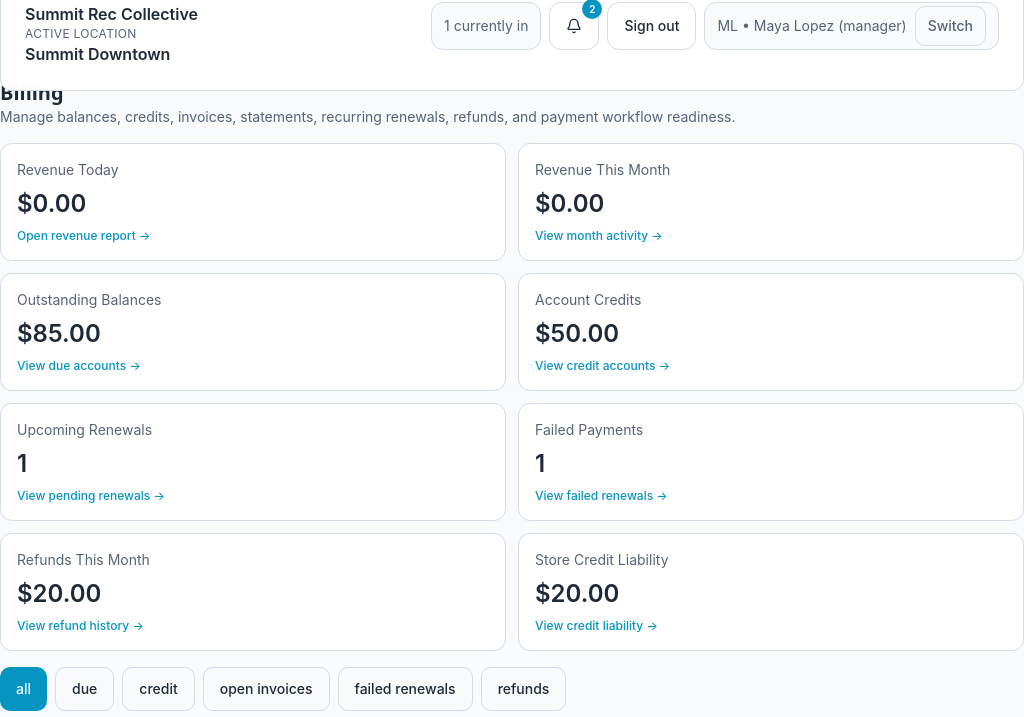
Scenario: billing workspace › supports credit, statement, and renewal actions
Click the button "Switch". click: (950, 26)
box: [915,6,986,46]
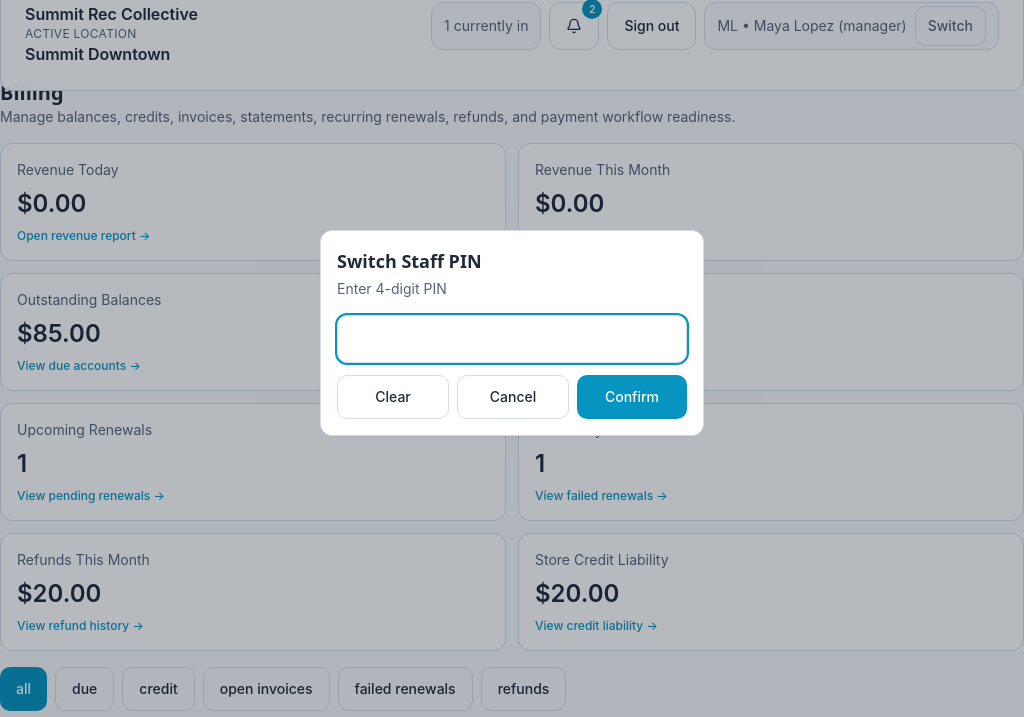
Type "2222" into the password field named "Staff PIN input". click: (512, 339)
box: [337,315,687,363]
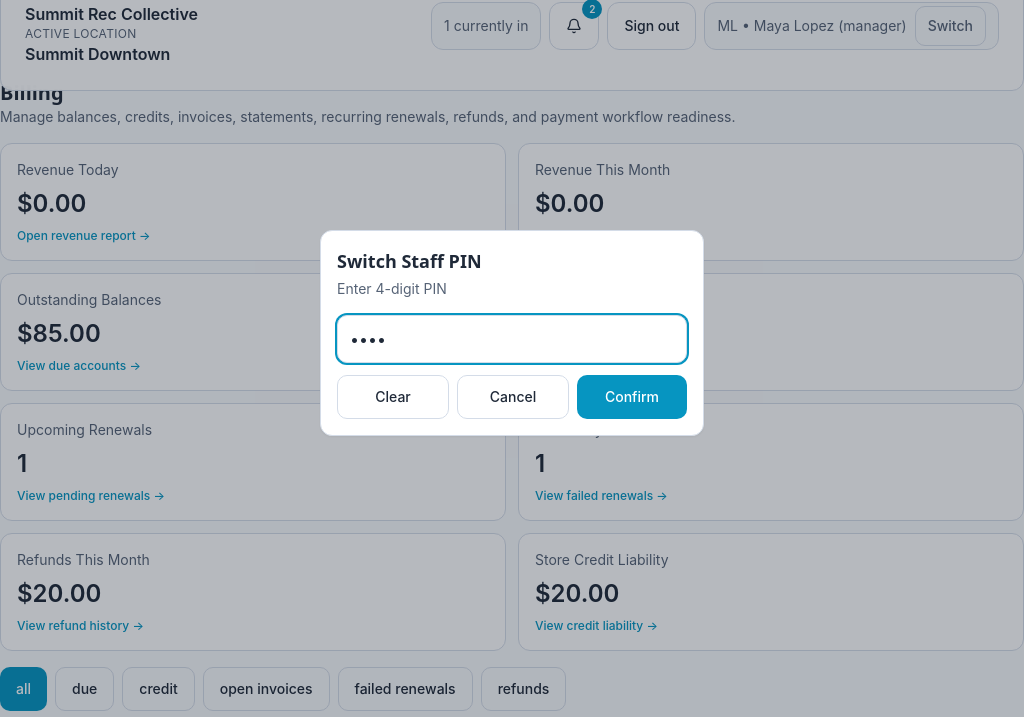
Click the button "Confirm". click: (632, 397)
box: [577,375,687,419]
(page scrolled)
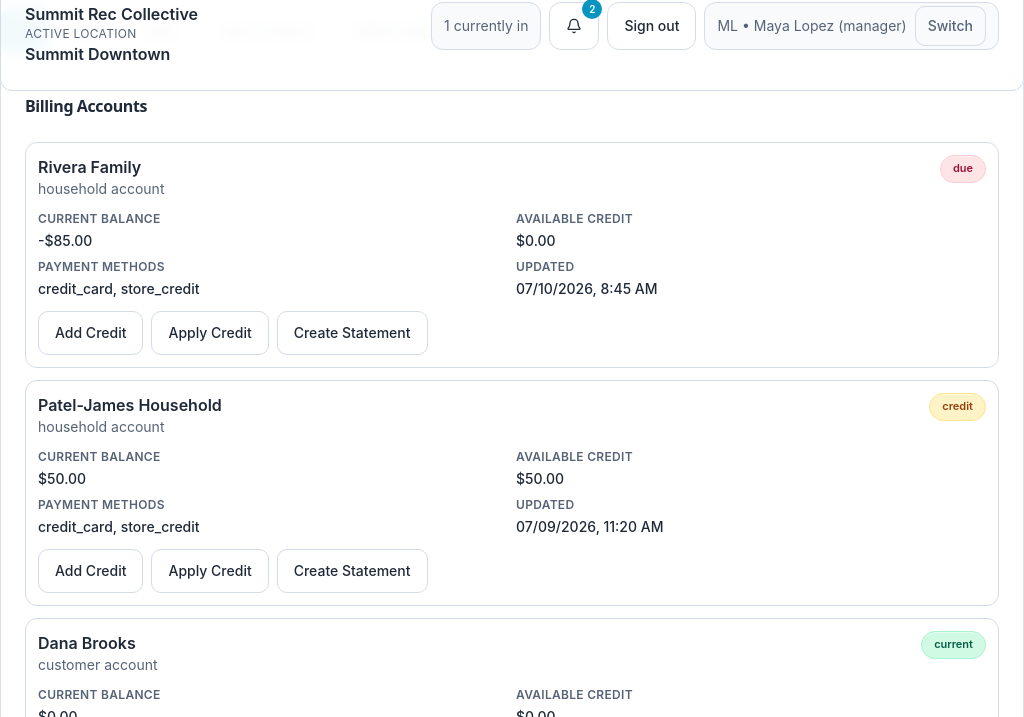
Click the button "Add Credit" below "-$85.00". click: (91, 333)
box: [38,311,144,355]
(page scrolled)
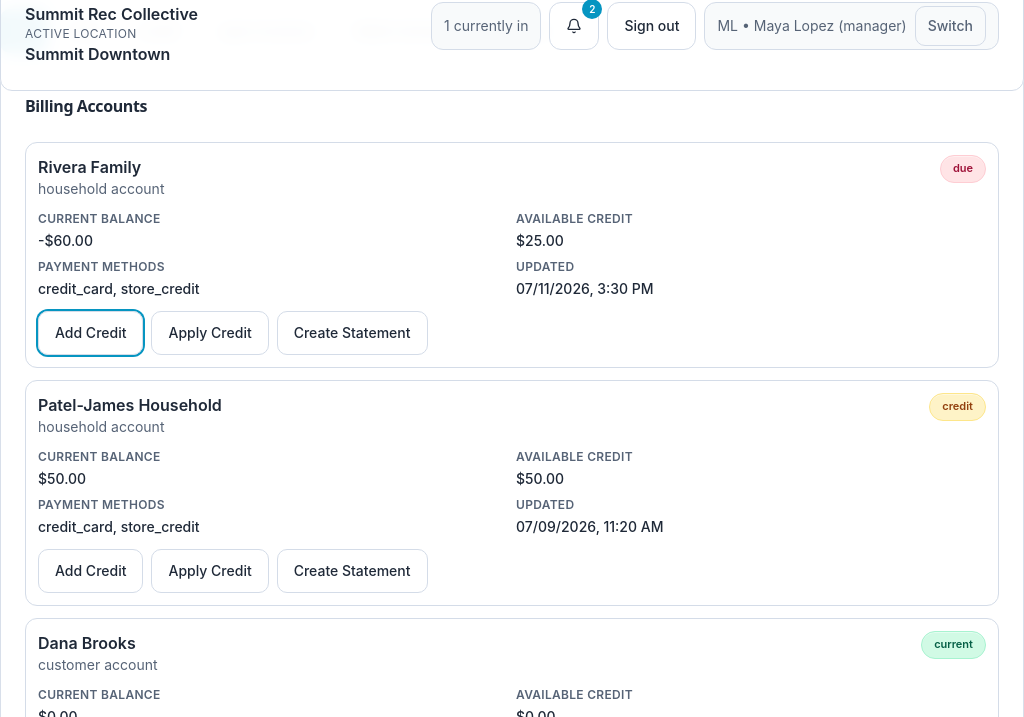
Click the button "Create Statement" below "07/11/2026, 3:30 PM". click: (352, 333)
box: [277,311,428,355]
(page scrolled)
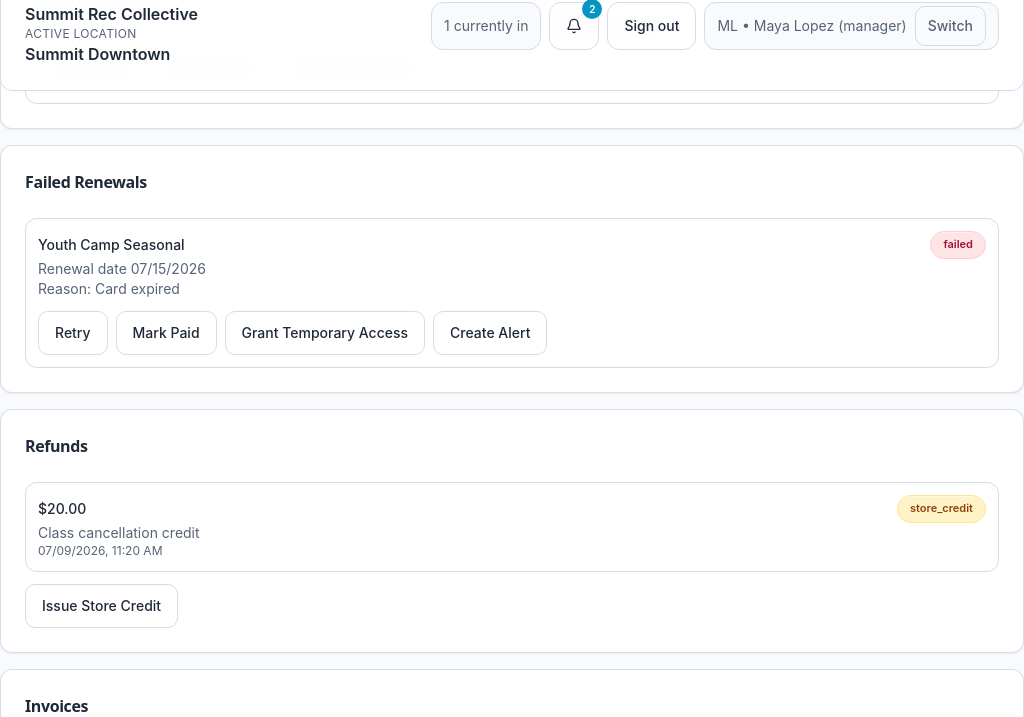
Click the button "Retry". click: (73, 333)
box: [38,311,108,355]
(page scrolled)
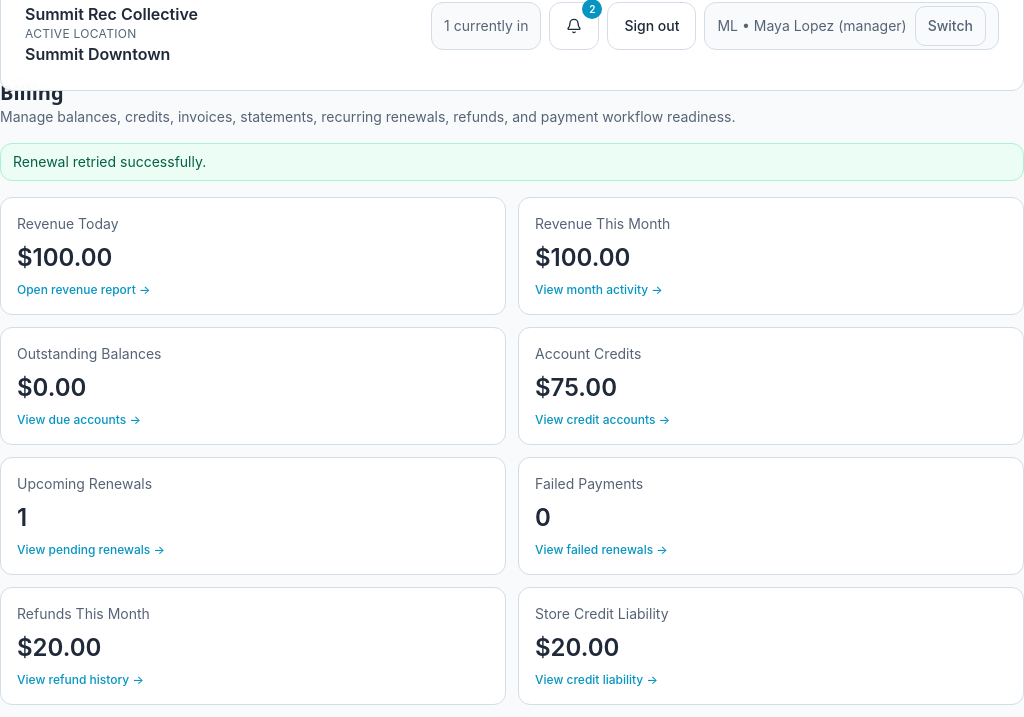
Expected: the message shows "Renewal retried successfully", [13,153,206,170]
